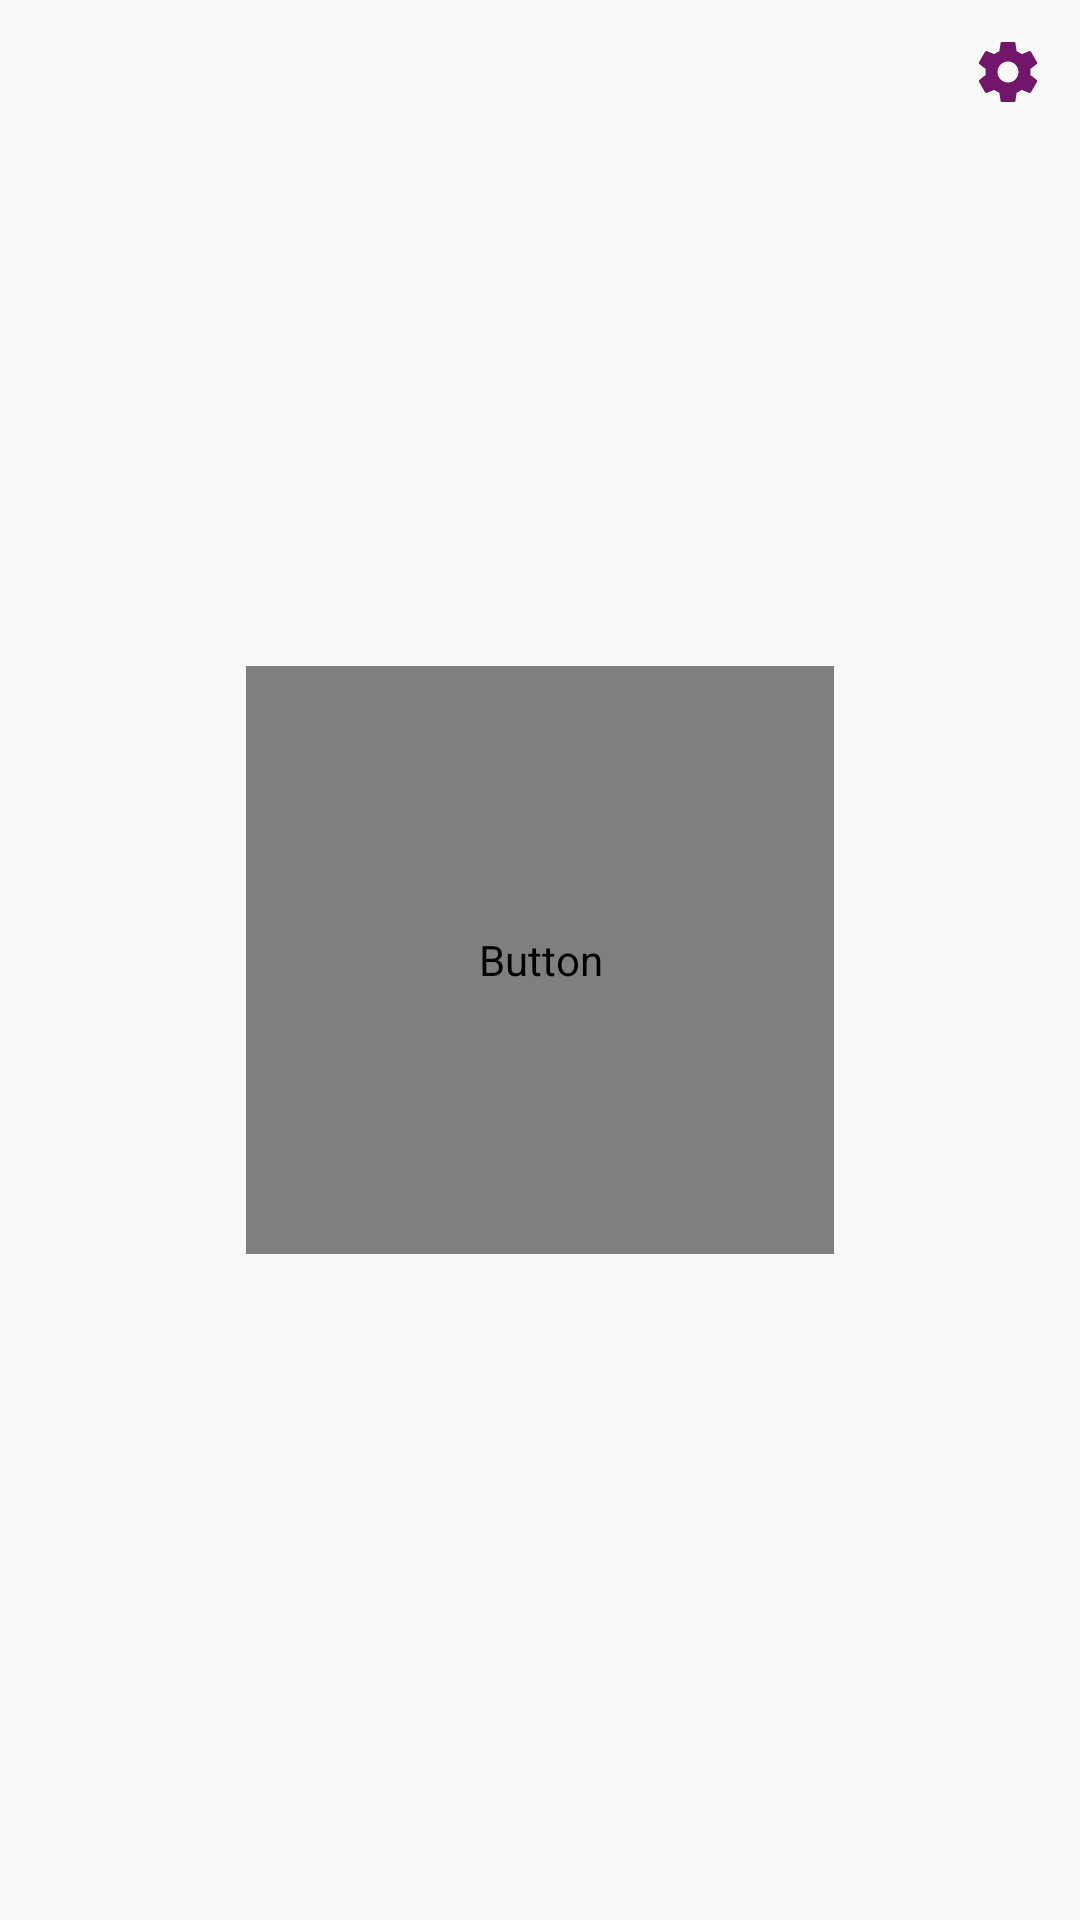

Where icons sit on this 1080w x 1920h app screen, as box(x1, y1, x2, y2):
settings: box(978, 42, 1037, 102)
